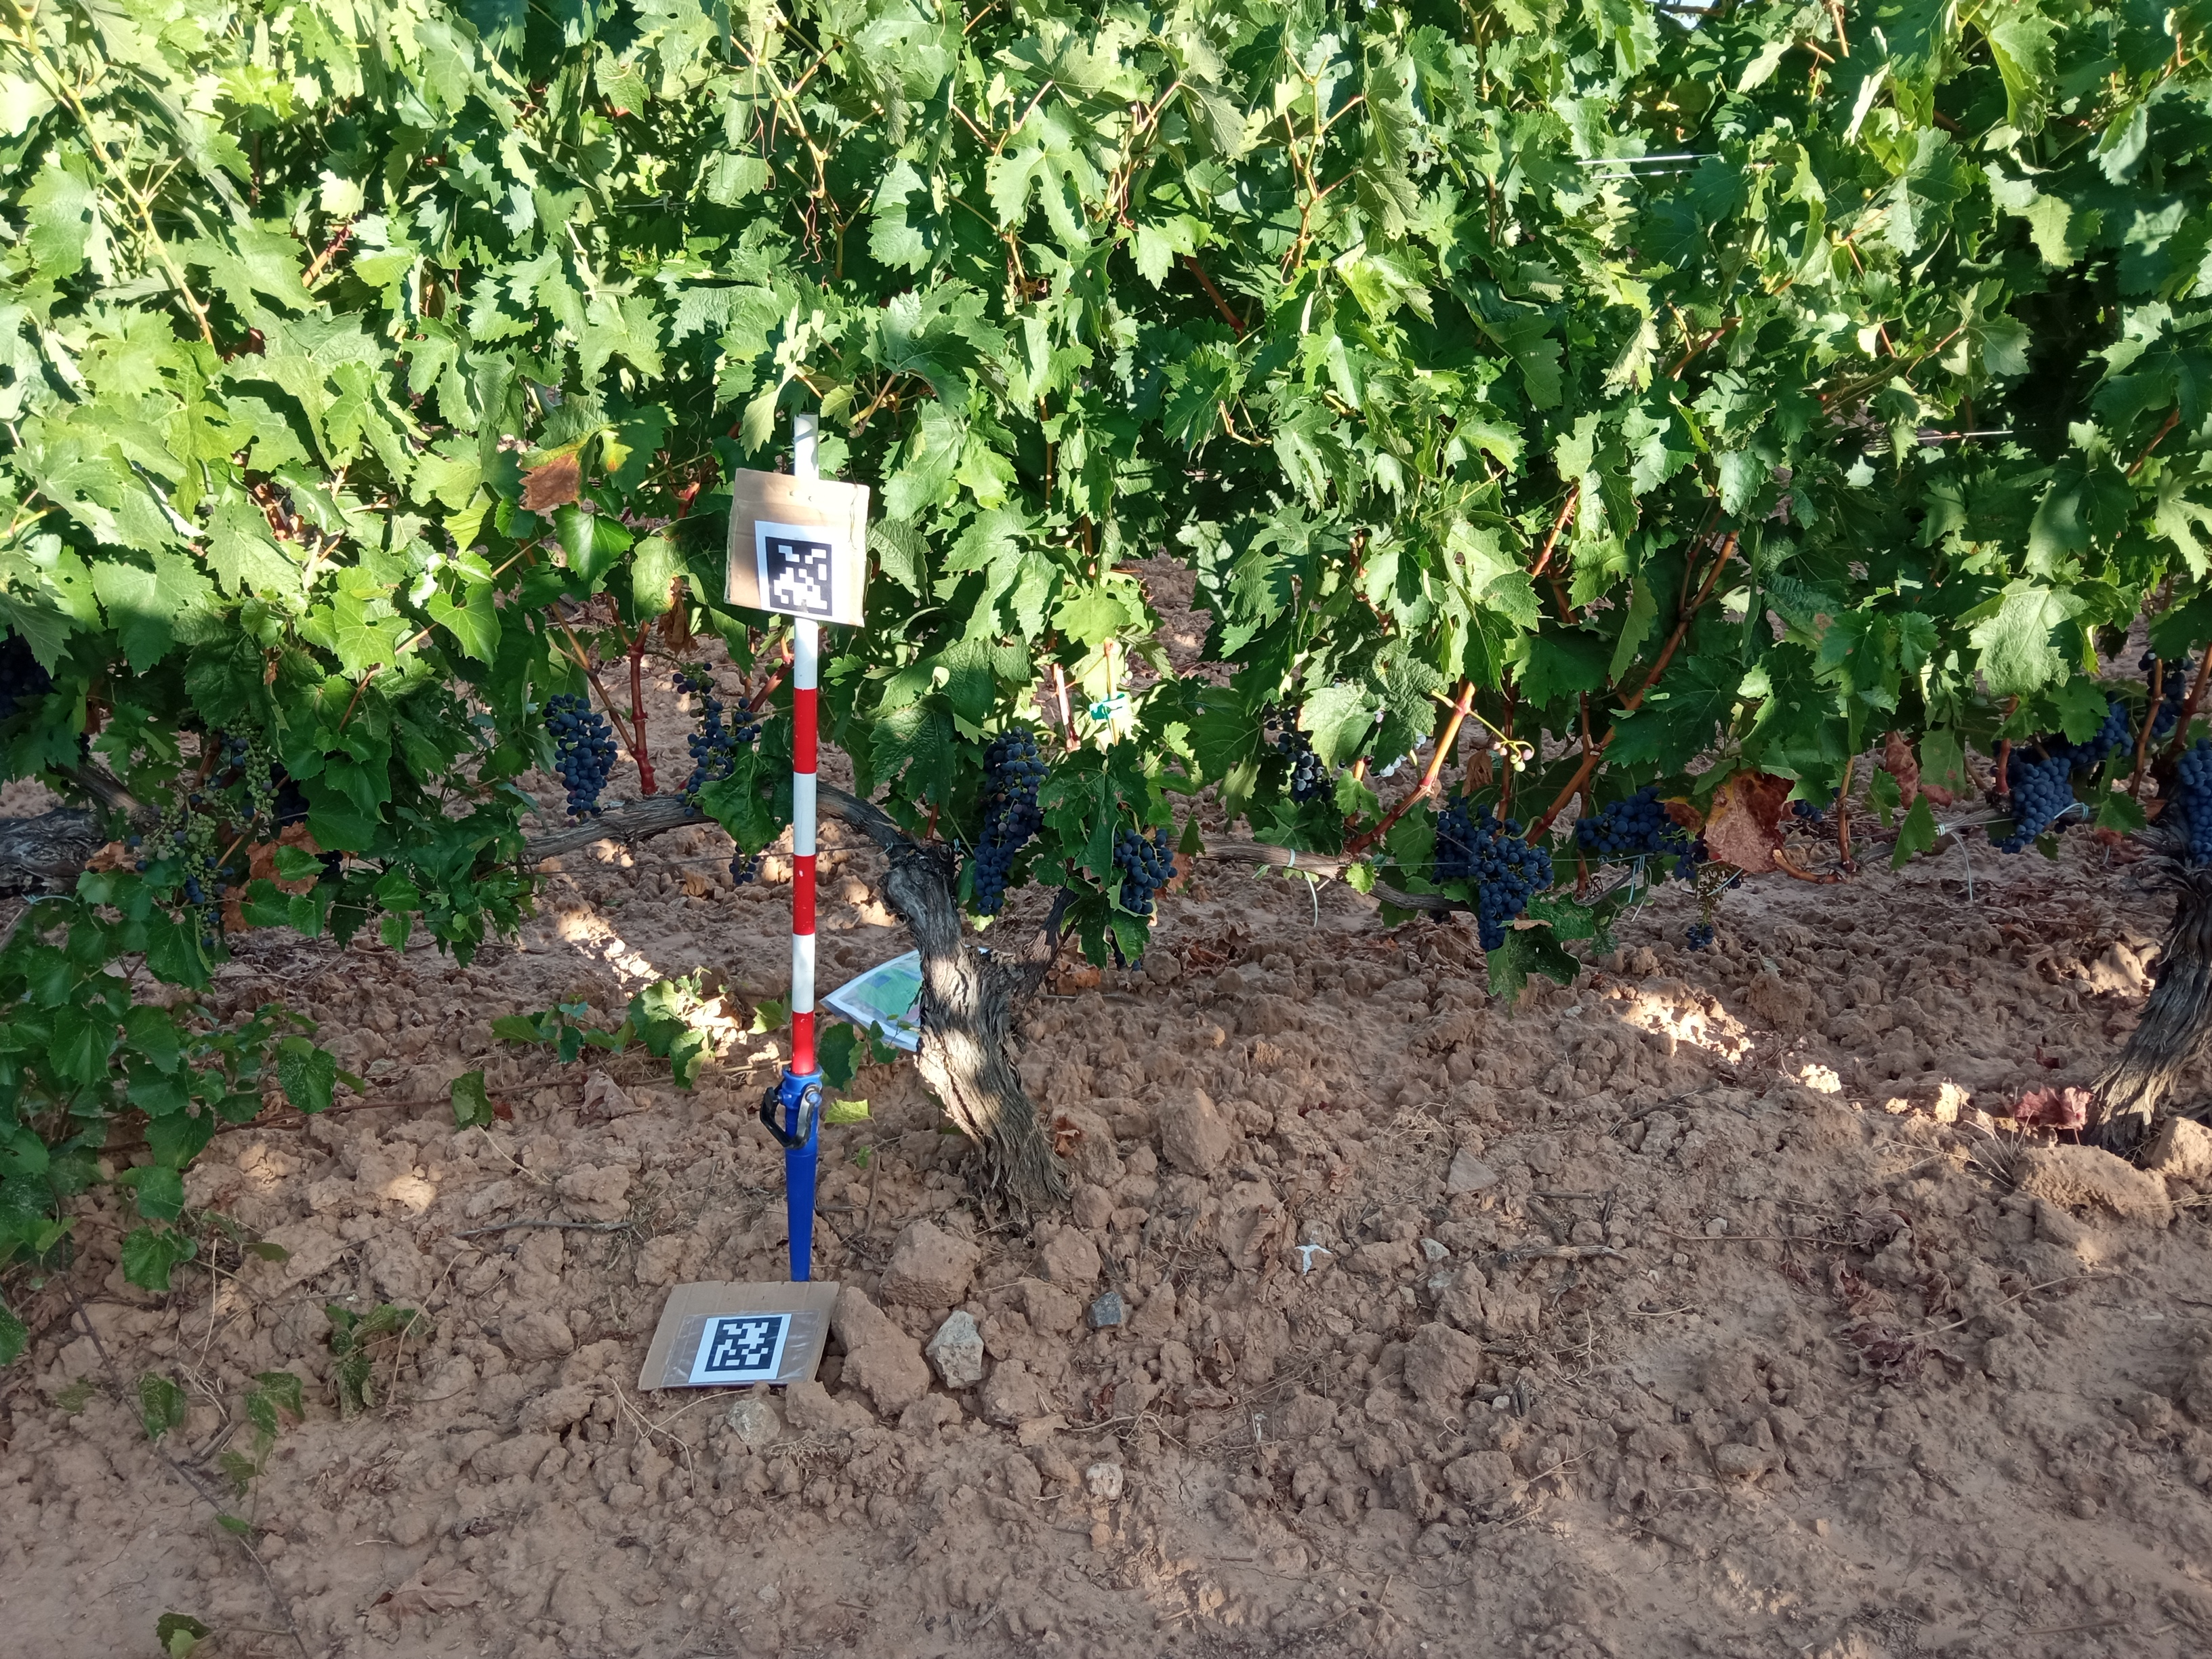grapes: (1440, 798, 1552, 957), (145, 788, 239, 953), (977, 725, 1049, 922), (672, 657, 758, 816), (1573, 781, 1702, 878), (540, 692, 620, 823), (2001, 758, 2078, 857), (219, 714, 279, 824), (1113, 826, 1172, 915), (1273, 708, 1329, 802), (2179, 737, 2212, 868), (2069, 699, 2132, 758), (2148, 664, 2188, 739), (726, 854, 768, 896)
